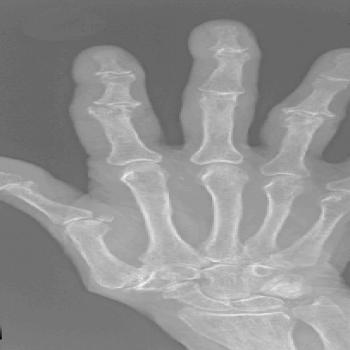Fracture: (76, 98, 158, 118)
